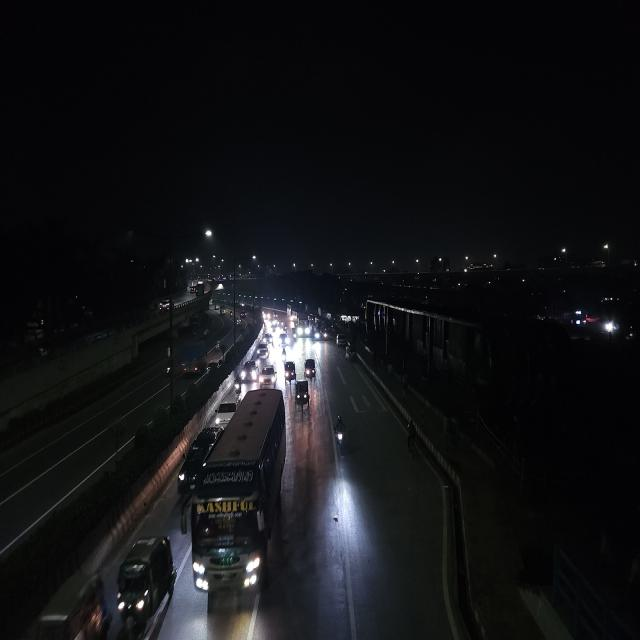bus: (188, 387, 288, 605), (294, 312, 312, 338)
car: (175, 425, 215, 503), (214, 397, 238, 428), (258, 363, 278, 389), (240, 358, 258, 384), (254, 342, 270, 363), (157, 296, 173, 314), (262, 331, 274, 346), (336, 332, 344, 346)
cng: (111, 528, 175, 639), (293, 377, 311, 417), (303, 355, 319, 381), (283, 358, 297, 383)
motorcycle: (331, 413, 349, 456), (163, 357, 174, 382), (234, 376, 242, 399)
truck: (179, 337, 209, 378)
